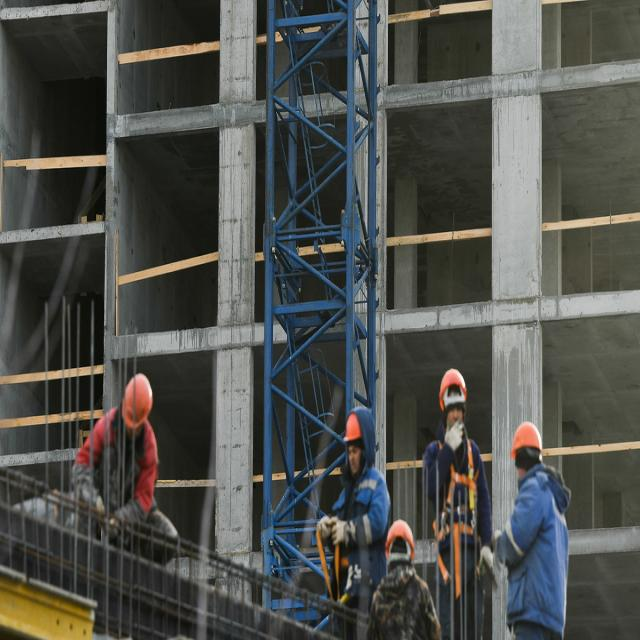Helmet: (124, 375, 153, 429), (510, 423, 544, 458), (386, 520, 416, 557), (441, 371, 467, 405), (345, 418, 361, 445)
NoJacket: (512, 476, 564, 616), (341, 460, 381, 589), (439, 426, 479, 545), (101, 431, 155, 504), (383, 566, 429, 639)
